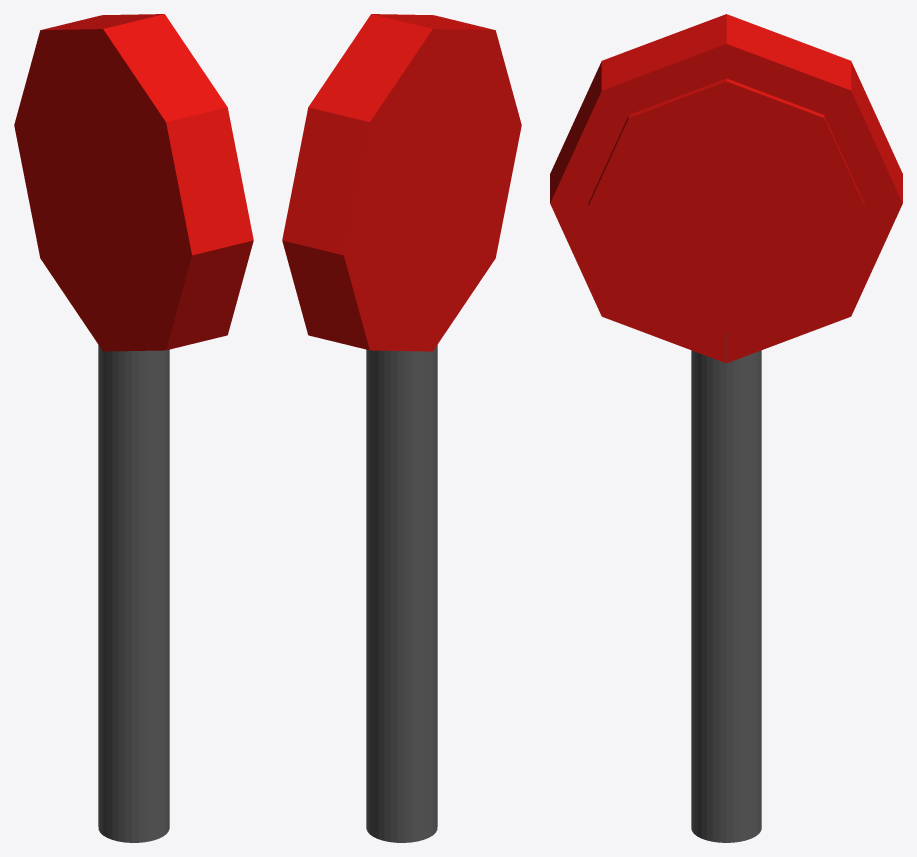
Rendered from StopSign.fbx.
The picture shows the model from 3 angles, left to right: view 1: azimuth 30°, elevation 25°; view 2: azimuth 150°, elevation 25°; view 3: azimuth 270°, elevation 25°; orthographic projection.
Visible parts, largest first — view 1: Cylinder.001, Cylinder; view 2: Cylinder.001, Cylinder; view 3: Cylinder.001, Cylinder.
Boxes of the visible parts, <box> form: Cylinder.001: <box>14,14,253,351</box>; Cylinder: <box>98,345,169,842</box>; Cylinder.001: <box>282,14,521,351</box>; Cylinder: <box>366,345,437,842</box>; Cylinder.001: <box>550,14,902,363</box>; Cylinder: <box>691,332,761,842</box>.
Size of the model in its own units: 11 by 125 by 50.
